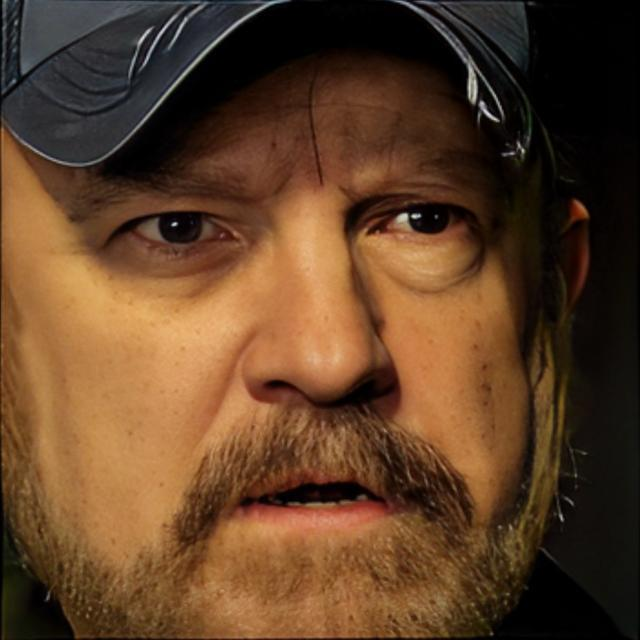anger: (99, 41, 544, 620)
